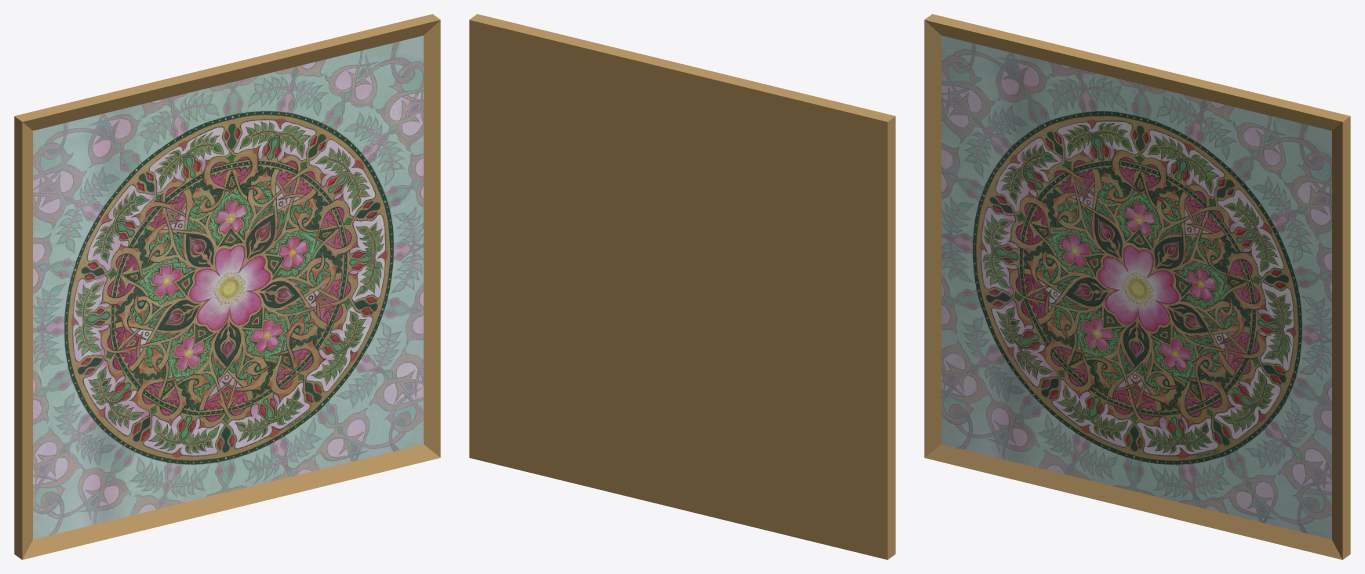
The model's file is wild-rose-wild-rose-sussex-pink-a0-natural-oak-v2.glb.
3 views of the same model, side by side, from view 1: azimuth 30°, elevation 25°; view 2: azimuth 150°, elevation 25°; view 3: azimuth 330°, elevation 25° (orthographic).
Parts seen in each view (by area): view 1: FramedPrint; view 2: FramedPrint; view 3: FramedPrint.
Part boxes in pixels (bbox=[...]): FramedPrint: bbox=[14, 14, 440, 559]; FramedPrint: bbox=[469, 14, 895, 559]; FramedPrint: bbox=[924, 14, 1350, 559].
Size of the model in its own units: 0.9 by 0.9 by 0.03.
2 materials, 1 textured.
